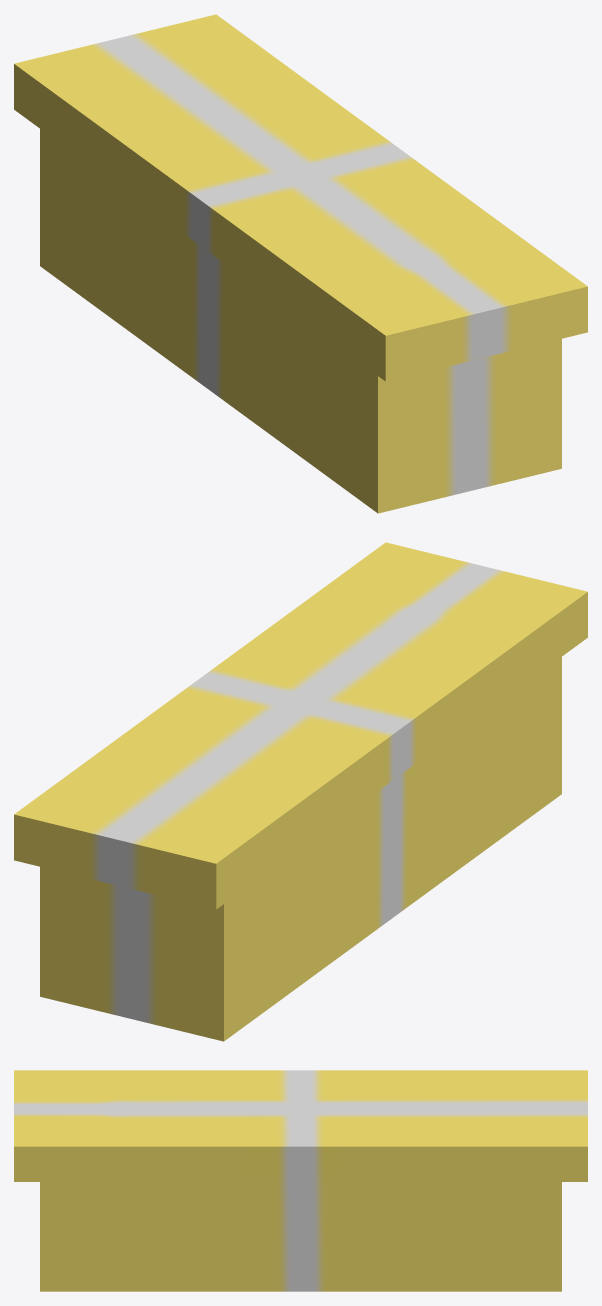
Rendered from GiftYellow.fbx.
3 views of the same model, one above another, from view 1: azimuth 30°, elevation 25°; view 2: azimuth 150°, elevation 25°; view 3: azimuth 270°, elevation 25° (orthographic). The views are drawn at different scales.
Visible parts, largest first — view 1: Cube; view 2: Cube; view 3: Cube.
Part boxes in pixels (left/top/right/bottom): Cube: left=14, top=14, right=587, bottom=513; Cube: left=14, top=542, right=587, bottom=1041; Cube: left=14, top=1070, right=587, bottom=1291.
Bounding box in the file's own units: 138 × 125 × 439.
1 material, 1 textured.
